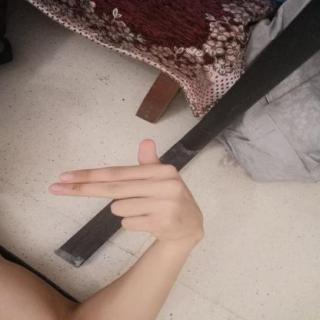GHAYN: (38, 132, 212, 245)
